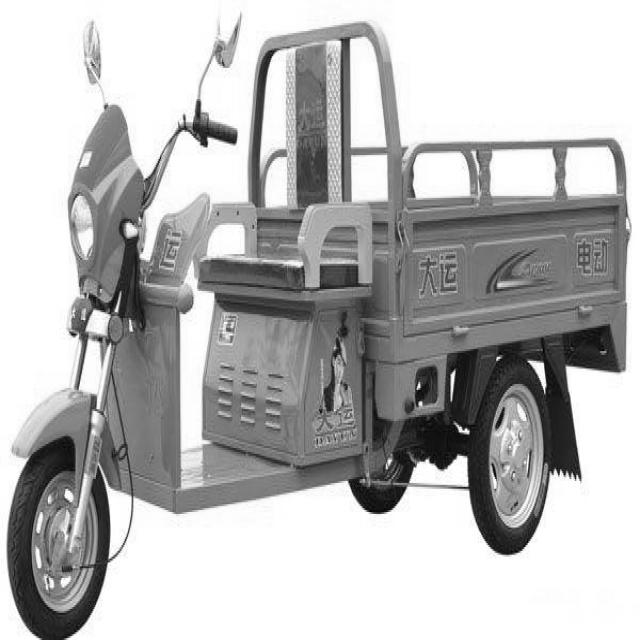tricycle: (3, 10, 628, 638)
